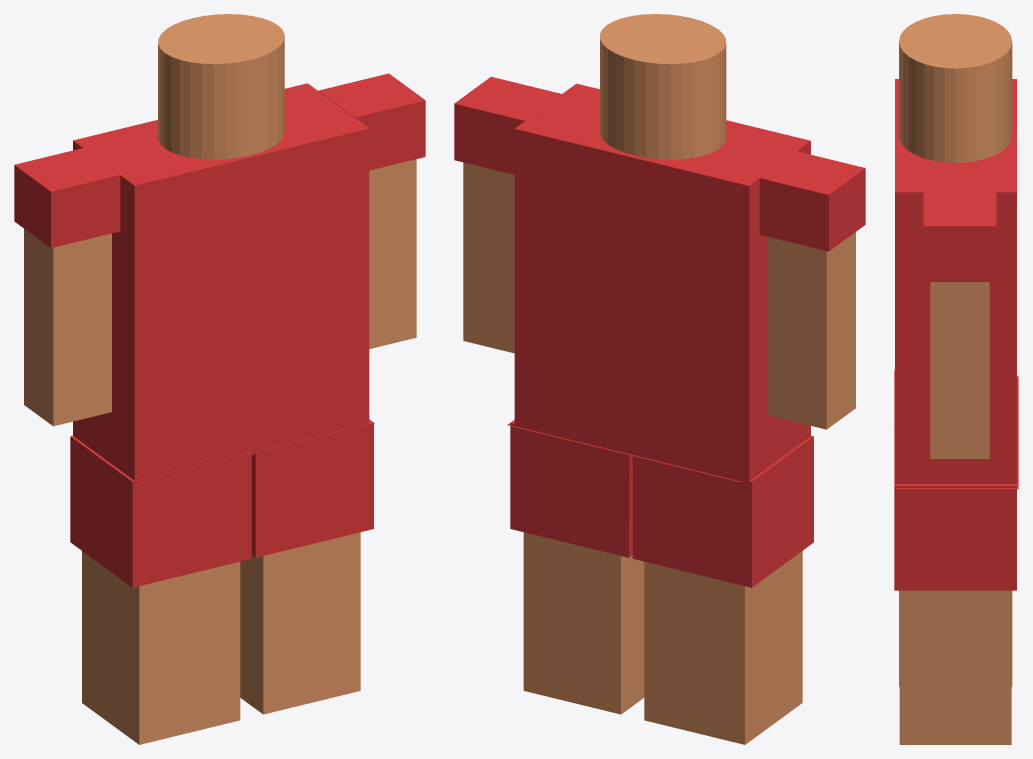
The model's file is Players.glb.
3 renders of one model, left to right at view 1: azimuth 30°, elevation 25°; view 2: azimuth 150°, elevation 25°; view 3: azimuth 270°, elevation 25°, orthographic.
Parts seen in each view (by area): view 1: Torso, Left Leg, Right Leg, Left Leg.001, Head, Right Leg.001; view 2: Torso, Left Leg, Right Leg, Left Leg.001, Head, Right Leg.001; view 3: Right Leg, Torso, Right Leg.001, Head, Left Leg.
Part boxes in pixels (box(x1,y1,x2,y2)): Torso: box(73, 83, 374, 480); Left Leg: box(70, 435, 251, 744); Right Leg: box(240, 420, 373, 714); Left Leg.001: box(14, 147, 121, 426); Head: box(158, 14, 284, 159); Right Leg.001: box(318, 73, 425, 348); Torso: box(507, 83, 810, 482); Left Leg: box(632, 435, 813, 744); Right Leg: box(510, 420, 644, 714); Left Leg.001: box(758, 151, 865, 429); Head: box(600, 14, 726, 159); Right Leg.001: box(454, 76, 561, 353); Right Leg: box(894, 429, 1016, 744); Torso: box(895, 79, 1018, 489); Right Leg.001: box(923, 192, 996, 458); Head: box(899, 14, 1012, 162); Left Leg: box(894, 369, 1012, 686).
Bounding box in the file's own units: 4.02 × 6.75 × 1.17.
